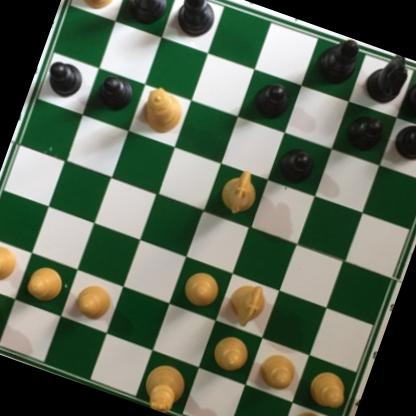black-bishop: (312, 31, 365, 89), (170, 0, 226, 44)
black-king: (116, 0, 178, 31)
black-knight: (360, 49, 414, 112)
black-pawn: (248, 75, 295, 124), (341, 109, 387, 158), (40, 57, 86, 103), (91, 71, 138, 116), (273, 141, 318, 188), (389, 116, 416, 166)
black-rook: (397, 62, 416, 129)
white-bishop: (68, 0, 127, 15)
white-king: (132, 355, 191, 416)
white-knight: (212, 163, 263, 222), (221, 277, 273, 333)
white-pawn: (299, 364, 352, 414), (68, 276, 118, 326), (21, 259, 72, 308), (206, 327, 255, 377), (253, 347, 301, 396), (178, 265, 225, 312), (0, 236, 24, 286)
white-queen: (135, 82, 190, 139)
white-rook: (278, 403, 342, 416), (0, 284, 7, 345)
